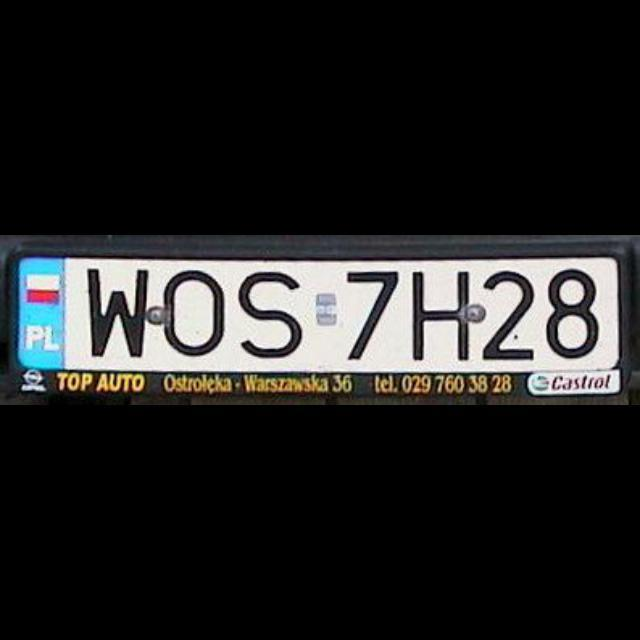license-plates: (17, 257, 621, 380)
